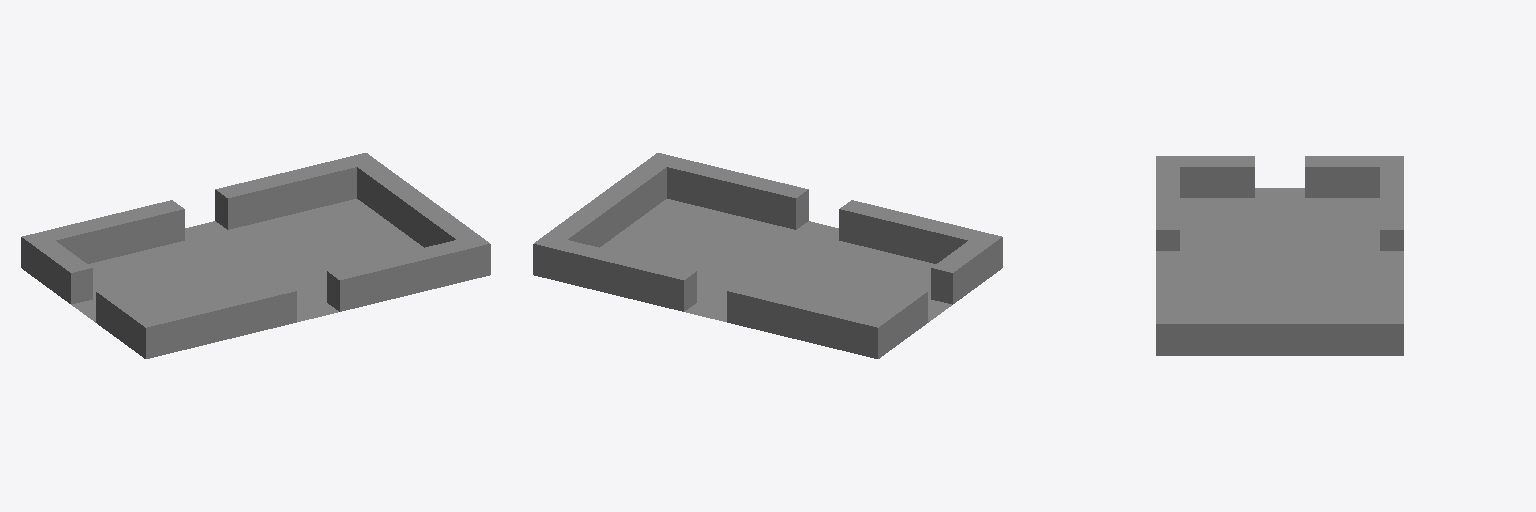
The model's file is Room08.obj.
The picture shows the model from 3 angles: view 1: azimuth 30°, elevation 25°; view 2: azimuth 150°, elevation 25°; view 3: azimuth 270°, elevation 25°; orthographic projection.
Parts seen in each view (by area): view 1: room1x3, collision; view 2: room1x3, collision; view 3: room1x3, collision.
Part boxes in pixels (x1,y1,x2,y2): room1x3: (21,153,490,358); collision: (21,153,490,358); room1x3: (533,153,1002,358); collision: (533,153,1002,358); room1x3: (1156,156,1403,355); collision: (1156,156,1403,355).
Bounding box in the file's own units: 80 × 7 × 50.